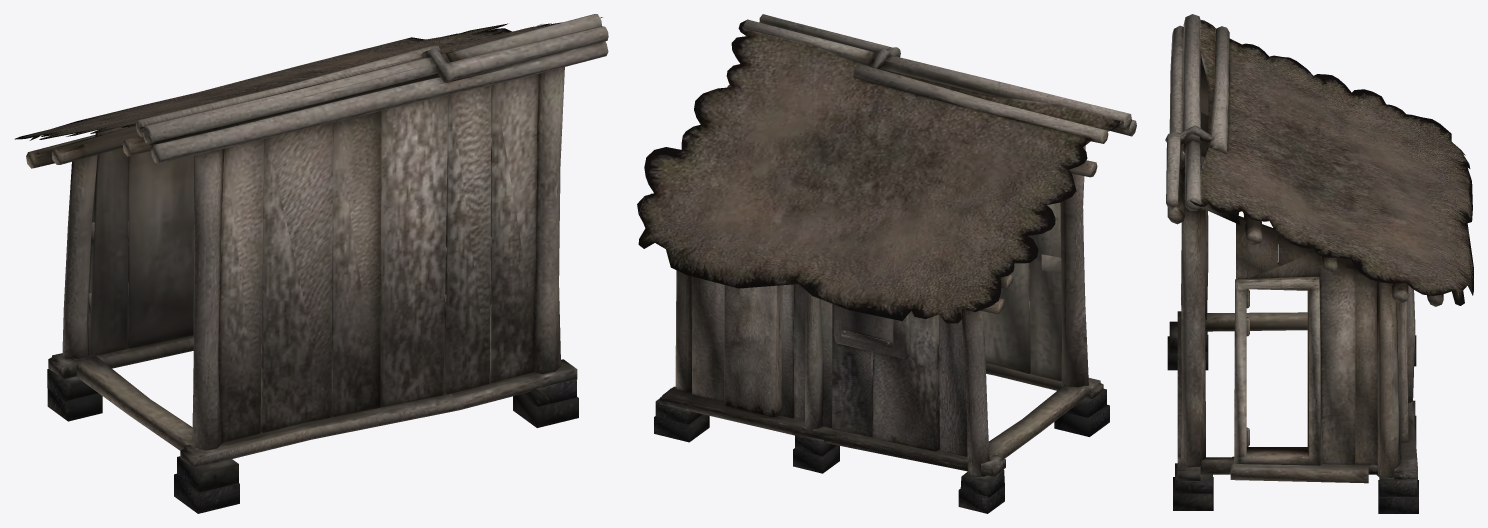
Rendered from penal-shack.glb.
3 views of the same model, side by side, from view 1: azimuth 30°, elevation 25°; view 2: azimuth 150°, elevation 25°; view 3: azimuth 270°, elevation 25° (orthographic). The views are drawn at different scales.
Parts seen in each view (by area): view 1: tripo_node_ee2f9731-cd5c-46e0-beeb-d4ee12f8a9bd; view 2: tripo_node_ee2f9731-cd5c-46e0-beeb-d4ee12f8a9bd; view 3: tripo_node_ee2f9731-cd5c-46e0-beeb-d4ee12f8a9bd.
Part boxes in pixels (x1=…): tripo_node_ee2f9731-cd5c-46e0-beeb-d4ee12f8a9bd: x1=15, y1=14, x2=608, y2=513; tripo_node_ee2f9731-cd5c-46e0-beeb-d4ee12f8a9bd: x1=637, y1=14, x2=1136, y2=513; tripo_node_ee2f9731-cd5c-46e0-beeb-d4ee12f8a9bd: x1=1165, y1=14, x2=1473, y2=513.
Size of the model in its own units: 0.998 by 0.8066 by 0.6816.
1 material, 1 textured.
